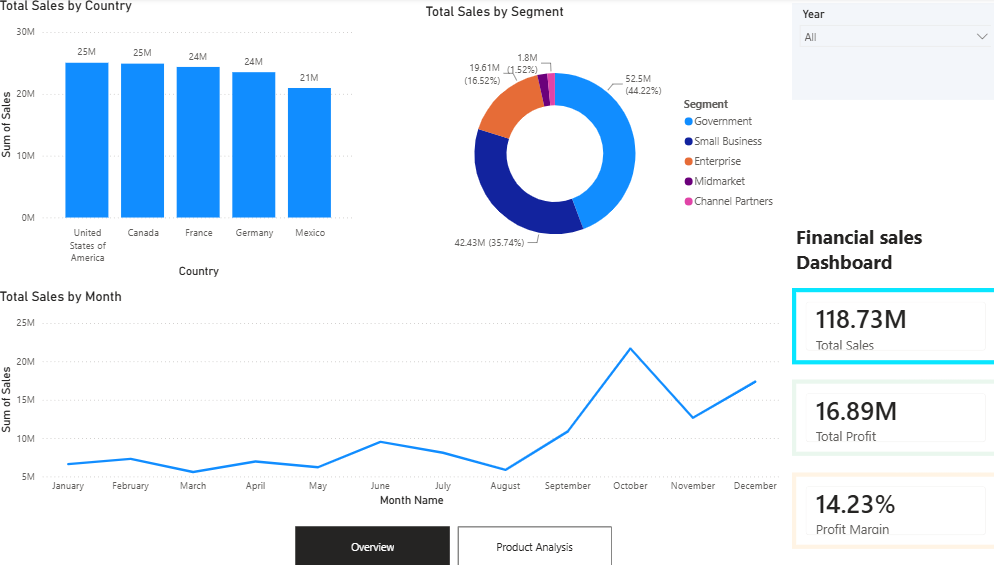

What the dashboard file says about the page in this screenshot:
{"tool":"powerbi","page":{"name":"Overview","canvas":[1280,720],"ordinal":0},"visuals":[{"type":"clusteredColumnChart","title":"Total Sales by Country","fields":{"Category":["financials.Country"],"Y":["Sum(financials.Sales)"]},"box":[9.4,0,459.2,359.1],"z":0},{"type":"donutChart","title":"Total Sales by Segment","fields":{"Y":["Sum(financials.Sales)"],"Category":["financials.Segment"]},"box":[548,7.6,459,351],"z":1000},{"type":"lineChart","title":"Total Sales by Month","fields":{"Category":["financials.Month Name"],"Y":["Sum(financials.Sales)"]},"box":[9.4,368.5,997.8,281.6],"z":2000},{"type":"slicer","fields":{"Values":["financials.Year"]},"box":[1016.7,7.6,262.7,122.8],"z":3000},{"type":"cardVisual","fields":{"Data":["financials.Total Sales"]},"box":[1016.7,368.5,262.7,96.4],"z":4000},{"type":"cardVisual","fields":{"Data":["financials.Total Profit"]},"box":[1016.7,483.8,262.7,96.4],"z":5000},{"type":"cardVisual","fields":{"Data":["financials.Profit Margin"]},"box":[1016.7,600.9,262.7,96.4],"z":6000},{"type":"textbox","box":[1016.7,281.6,223,77.5],"z":7000},{"type":"pageNavigator","box":[389.3,670,400,50],"z":8000}]}

Visuals, with their boxes in screenshot pixels (x1, y1, x2, y2), scaled from the page's 1280x720 canvas onto the 994x565 screenshot:
"Total Sales by Country" clusteredColumnChart: [x1=7, y1=0, x2=364, y2=282]
"Total Sales by Segment" donutChart: [x1=426, y1=6, x2=782, y2=281]
"Total Sales by Month" lineChart: [x1=7, y1=289, x2=782, y2=510]
slicer - financials.Year: [x1=790, y1=6, x2=993, y2=102]
cardVisual - financials.Total Sales: [x1=790, y1=289, x2=993, y2=365]
cardVisual - financials.Total Profit: [x1=790, y1=380, x2=993, y2=455]
cardVisual - financials.Profit Margin: [x1=790, y1=472, x2=993, y2=547]
textbox: [x1=790, y1=221, x2=963, y2=282]
pageNavigator: [x1=302, y1=526, x2=613, y2=564]
